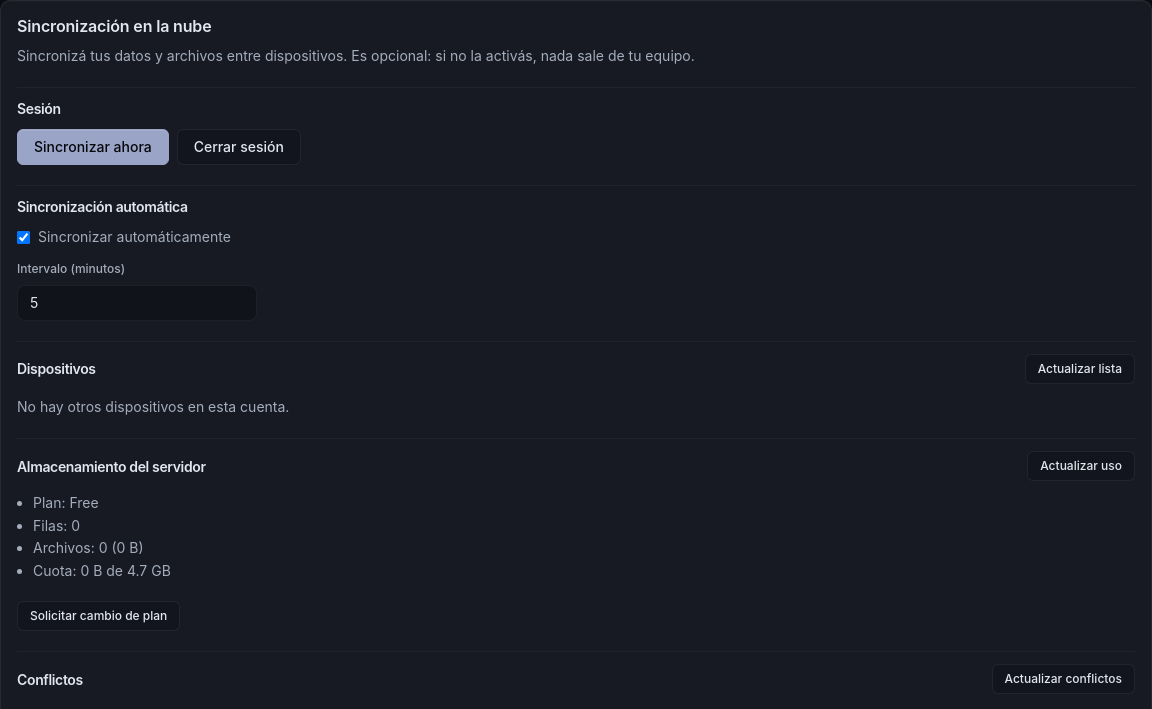
Test case: SyncSettingsCard — plan change request › opens the plan modal and renders the target-plan select (current excluded)
The image size is (1152, 709).
// Wait for the upgrade button to appear (usage resolved → plan action block).
Click the button "Solicitar cambio de plan" at (99, 616), box left=17, top=601, right=180, bottom=631
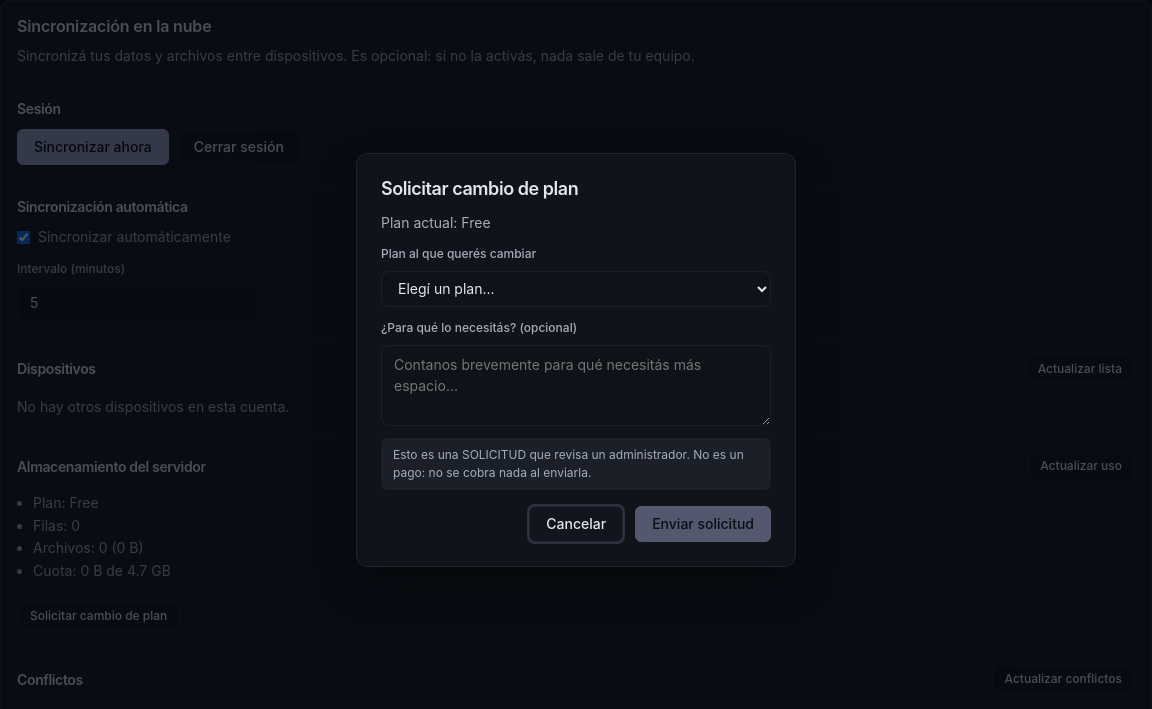
Result: the heading "Solicitar cambio de plan" is shown at left=381, top=178, right=578, bottom=199
Result: the text "Plan actual: Free" is shown at left=381, top=214, right=491, bottom=231
Result: the text "Esto es una SOLICITUD" is shown at left=393, top=447, right=744, bottom=480
